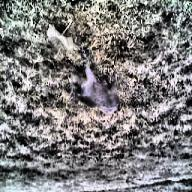boar: (69, 65, 122, 115)
